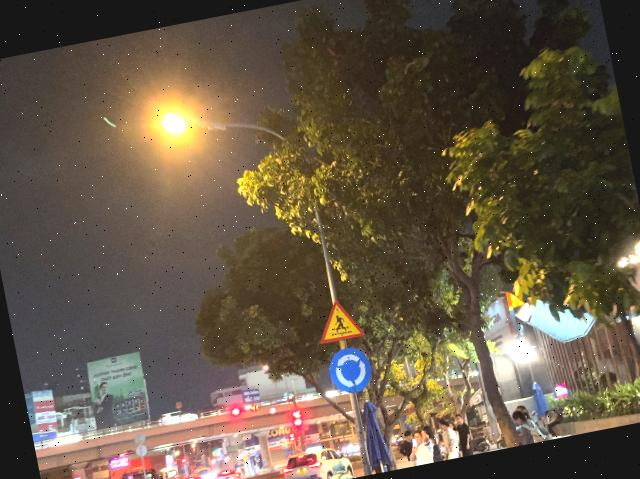duong-nguoi-di-bo-cat-ngang: (311, 294, 366, 344)
noi-giao-nhau-chay-theo-vong-xuyen: (326, 342, 375, 398)
